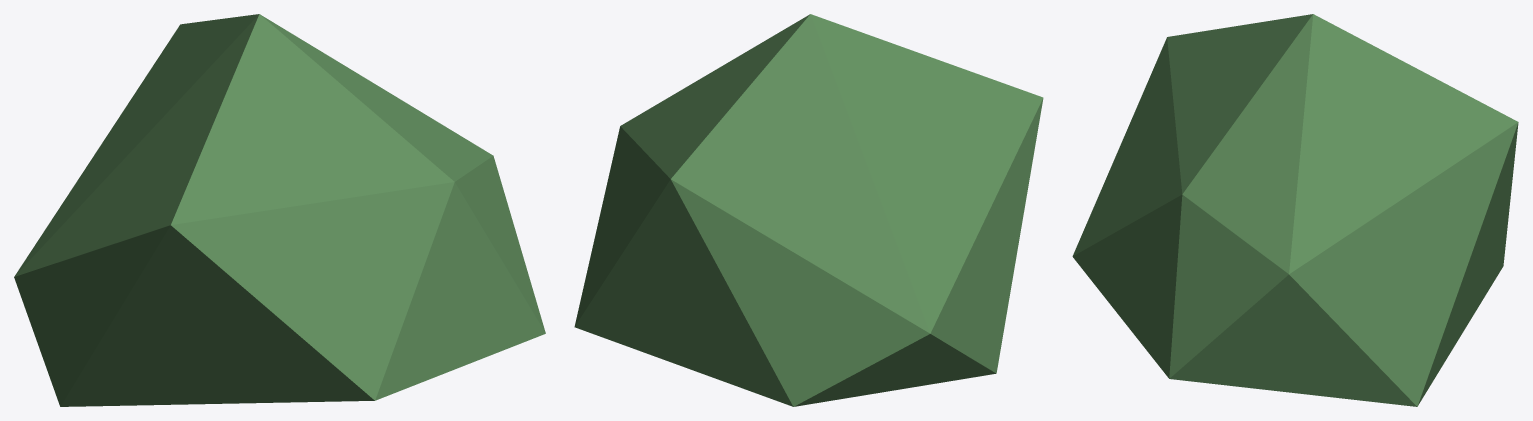
Rendered from Leaves2.fbx.
3 views of the same model, side by side, from view 1: azimuth 30°, elevation 25°; view 2: azimuth 150°, elevation 25°; view 3: azimuth 270°, elevation 25° (orthographic). The views are drawn at different scales.
Visible parts, largest first — view 1: Leaves2; view 2: Leaves2; view 3: Leaves2.
Boxes of the visible parts, bbox=[...] form: Leaves2: bbox=[14, 14, 545, 406]; Leaves2: bbox=[574, 14, 1043, 406]; Leaves2: bbox=[1072, 14, 1518, 406].
Bounding box in the file's own units: 76.52 × 66.08 × 79.01.
